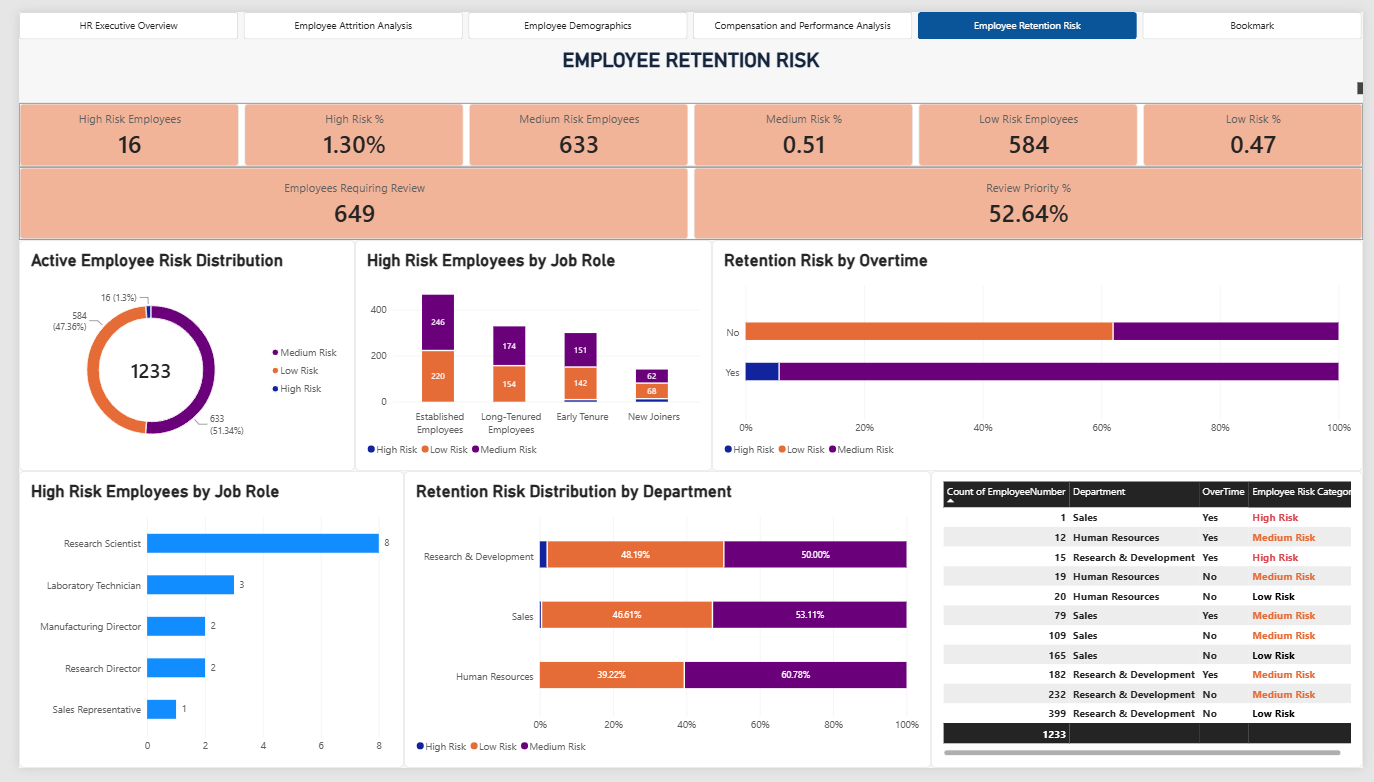

The page's visual inventory and layout, read from the dashboard file:
{"tool":"powerbi","page":{"name":"Employee Retention Risk","canvas":[1920,1080],"ordinal":4},"visuals":[{"type":"textbox","title":"EMPLOYEE RETENTION RISK","box":[0,51.4,1920,78.6],"z":0},{"type":"cardVisual","fields":{"Data":["_Measures.High Risk Employees","_Measures.High Risk %","_Measures.Medium Risk Employees","_Measures.Medium Risk %","_Measures.Low Risk Employees","_Measures.Low Risk %"]},"box":[0,130,1920,91.4],"z":1},{"type":"cardVisual","fields":{"Data":["_Measures.Employees Requiring Review","Demographic KPIs.Review Priority %"]},"box":[0,221.4,1920,104.3],"z":2},{"type":"donutChart","title":"Active Employee Risk Distribution","fields":{"Category":["Fact_Employee.Employee Risk Category"],"Y":["_Measures.Total Employees"]},"box":[0,325.7,480,330],"z":3},{"type":"hundredPercentStackedBarChart","title":"Retention Risk Distribution by Department","fields":{"Category":["Dim_Department.Department"],"Series":["Fact_Employee.Employee Risk Category"],"Y":["_Measures.Total Employees"]},"box":[550,655.7,752.9,424.3],"z":4},{"type":"clusteredBarChart","title":"High Risk Employees by Job Role","fields":{"Category":["Fact_Employee.JobRole"],"Y":["_Measures.High Risk Employees"]},"box":[0,655.7,550,424.3],"z":5},{"type":"columnChart","title":"High Risk Employees by Job Role","fields":{"Category":["Fact_Employee.Tenure Group"],"Series":["Fact_Employee.Employee Risk Category"],"Y":["_Measures.Total Employees"]},"box":[480,325.7,510,330],"z":6},{"type":"hundredPercentStackedBarChart","title":"Retention Risk by Overtime","fields":{"Category":["Fact_Employee.OverTime"],"Series":["Fact_Employee.Employee Risk Category"],"Y":["_Measures.Total Employees"]},"box":[990,325.7,930,330],"z":7},{"type":"tableEx","fields":{"Values":["Count(Fact_Employee.EmployeeNumber)","Dim_Department.Department","Dim_Overtime.OverTime","Fact_Employee.Employee Risk Category"]},"box":[1302.9,655.7,617.1,424.3],"z":8},{"type":"pageNavigator","box":[0,0,1920,39.4],"z":9}]}

Visuals, with their boxes on the page's 1920x1080 design canvas (x1, y1, x2, y2). These are canvas units, not pixel positions in the 1374x782 screenshot, which may show the page scaled, cropped or inside an application window:
"EMPLOYEE RETENTION RISK" textbox: 0 51 1920 130
cardVisual - _Measures.High Risk Employees x _Measures.High Risk %: 0 130 1920 221
cardVisual - _Measures.Employees Requiring Review x Demographic KPIs.Review Priority %: 0 221 1920 326
"Active Employee Risk Distribution" donutChart: 0 326 480 656
"Retention Risk Distribution by Department" hundredPercentStackedBarChart: 550 656 1303 1080
"High Risk Employees by Job Role" clusteredBarChart: 0 656 550 1080
"High Risk Employees by Job Role" columnChart: 480 326 990 656
"Retention Risk by Overtime" hundredPercentStackedBarChart: 990 326 1920 656
tableEx - Count(Fact_Employee.EmployeeNumber) x Dim_Department.Department: 1303 656 1920 1080
pageNavigator: 0 0 1920 39
